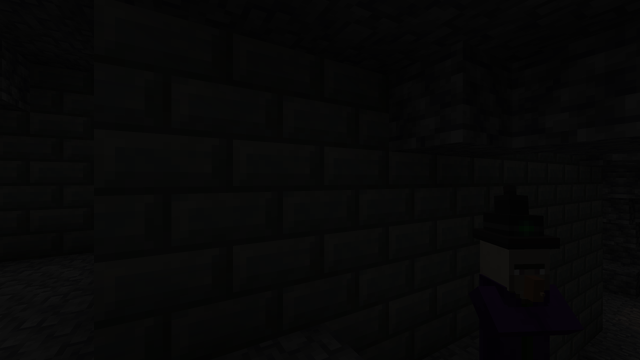sorcieres: (472, 229, 555, 358)
